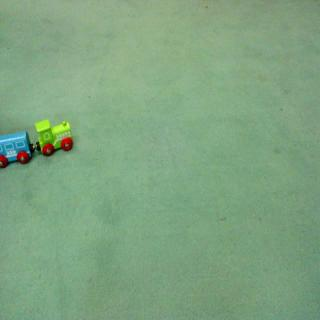train: (1, 117, 75, 171)
